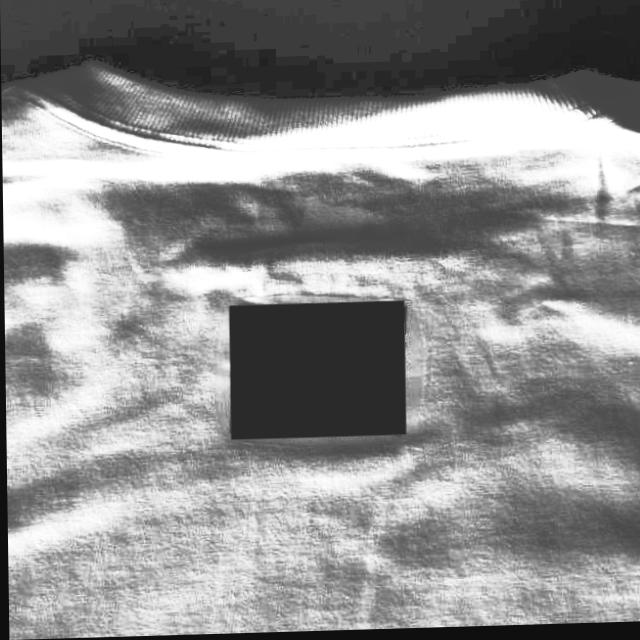qr_code: (229, 304, 405, 442)
